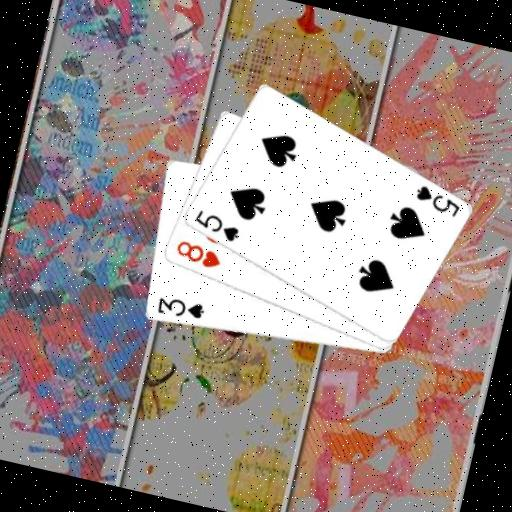3S: (152, 292, 207, 326)
5S: (188, 206, 244, 245), (409, 180, 465, 219)
8H: (171, 237, 226, 273)
